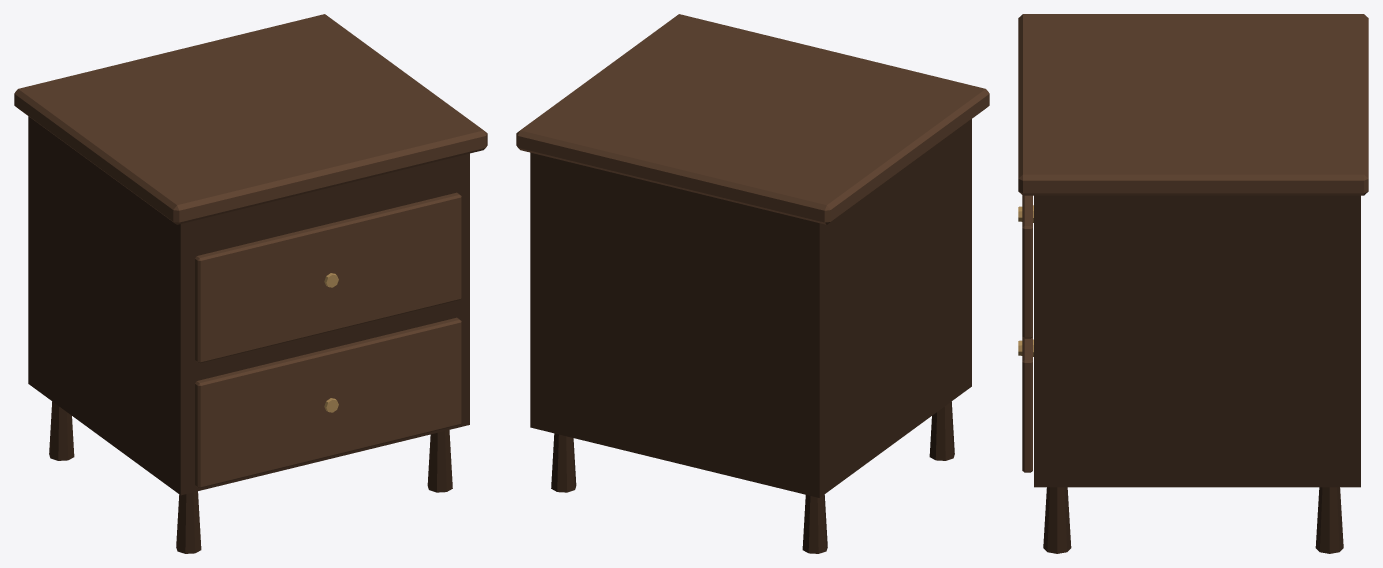
Rendered from nightstand_r.glb.
The picture shows the model from 3 angles, left to right: view 1: azimuth 30°, elevation 25°; view 2: azimuth 150°, elevation 25°; view 3: azimuth 270°, elevation 25°; orthographic projection. The views are drawn at different scales.
Parts seen in each view (by area): view 1: nightstand_r; view 2: nightstand_r; view 3: nightstand_r.
Boxes of the visible parts, bbox=[...] form: nightstand_r: bbox=[14, 14, 487, 553]; nightstand_r: bbox=[516, 14, 989, 553]; nightstand_r: bbox=[1018, 14, 1368, 553].
Bounding box in the file's own units: 0.5 × 0.55 × 0.45.
